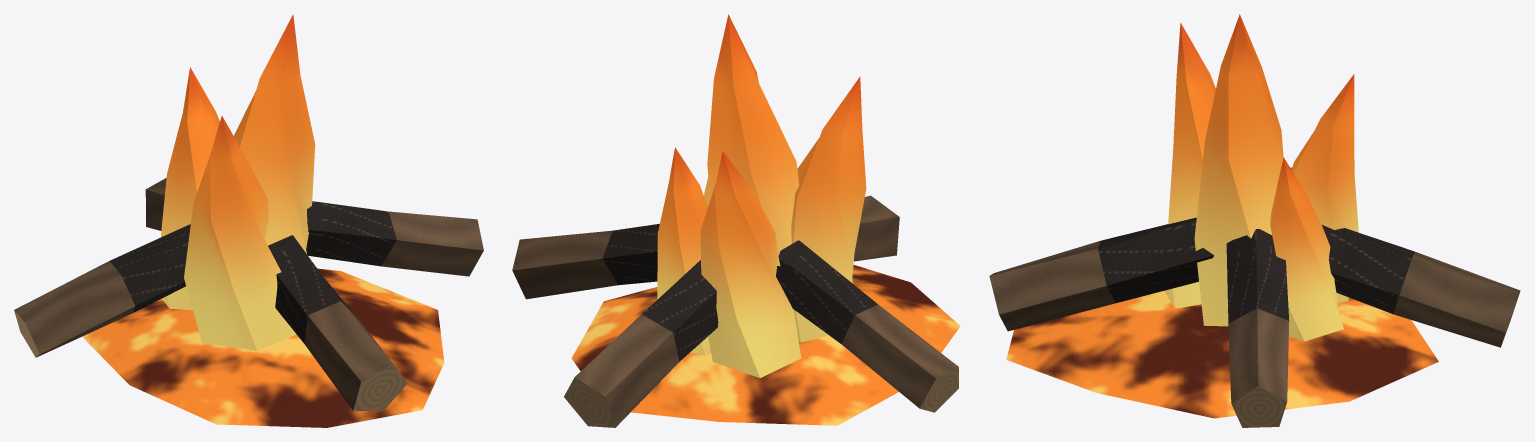
File: fire_lit.glb
The picture shows the model from 3 angles, left to right: view 1: azimuth 30°, elevation 25°; view 2: azimuth 150°, elevation 25°; view 3: azimuth 270°, elevation 25°; orthographic projection. The views are drawn at different scales.
Visible parts, largest first — view 1: FIRE_LIT; view 2: FIRE_LIT; view 3: FIRE_LIT.
Boxes of the visible parts, x1,y1,x2,y2 form: FIRE_LIT: [14, 14, 483, 427]; FIRE_LIT: [512, 14, 960, 427]; FIRE_LIT: [989, 14, 1520, 427].
Bounding box in the file's own units: 0.5692 × 0.396 × 0.5669.
Materials: 2 (2 with a texture image).
